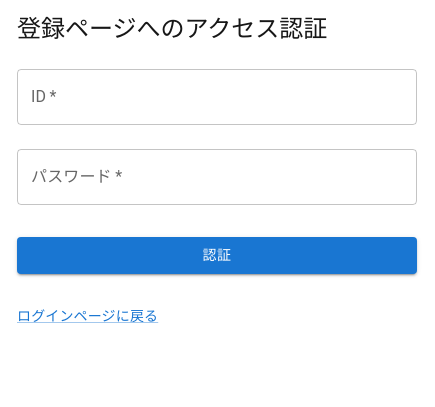
Test: RegisterPage › 認証画面 › 間違った認証情報でエラーメッセージが表示される
In the field labelled "ID *": coordinates (217, 97) [17,69,417,125], type "wrong"
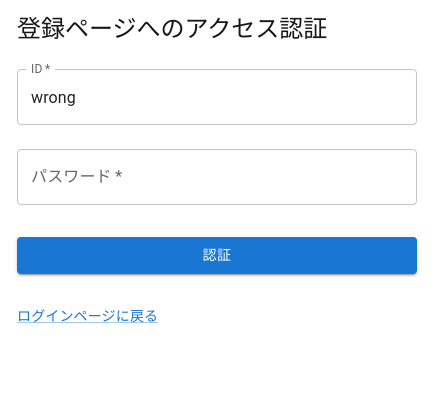
In the password field labelled "パスワード *": coordinates (217, 177) [17,149,417,205], type "wrong"
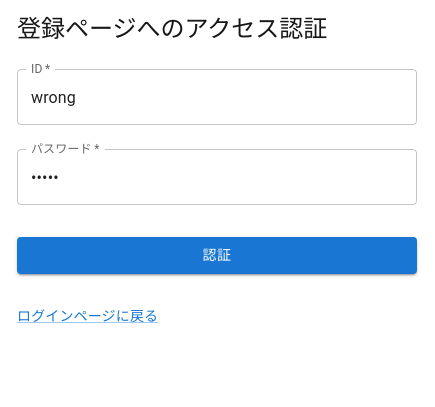
Click the button "認証": coordinates (217, 256) [17,237,417,274]
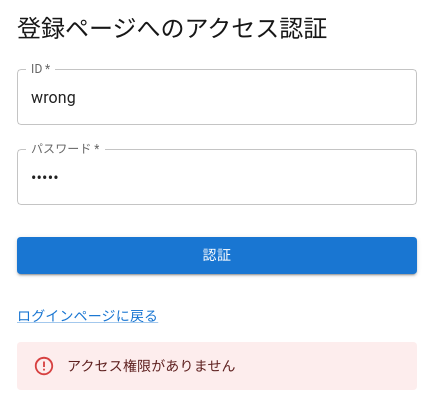
Now the text "アクセス権限がありません" is shown, box [67,358,236,374]
